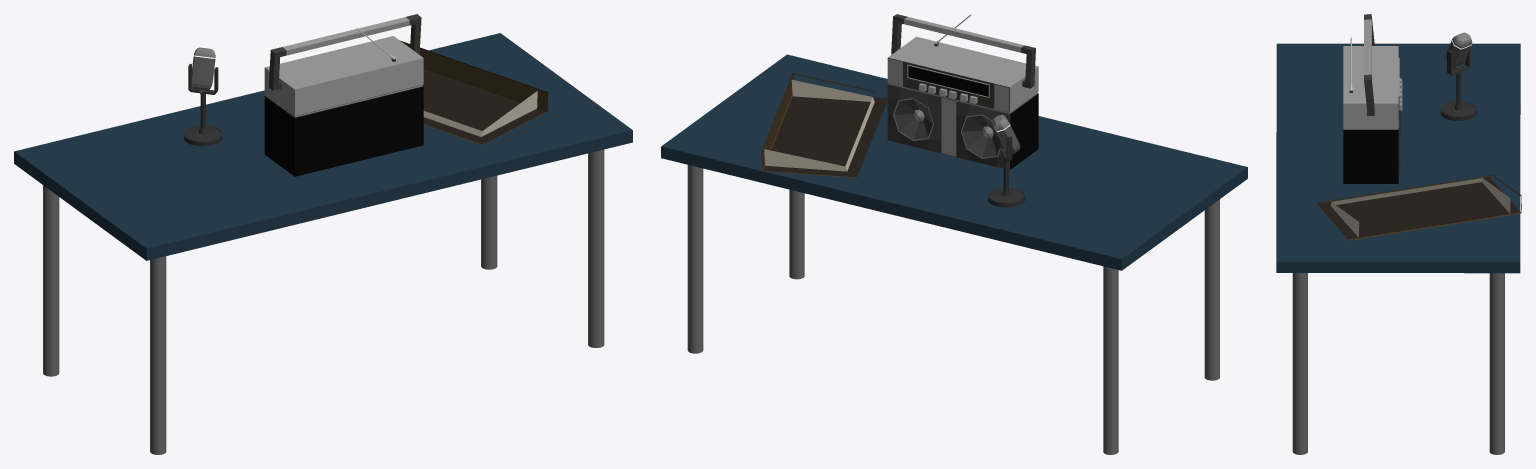
File: 3d_radio_v5.glb
3 renders of one model, left to right at view 1: azimuth 30°, elevation 25°; view 2: azimuth 150°, elevation 25°; view 3: azimuth 270°, elevation 25°, orthographic. The views are drawn at different scales.
Visible parts, largest first — view 1: Table, Radio, Plane, Microphone; view 2: Table, Radio, Plane, Microphone; view 3: Table, Radio, Plane, Microphone.
Boxes of the visible parts, x1,y1,x2,y2 form: Table: (14, 33, 632, 454); Radio: (264, 14, 423, 176); Plane: (400, 40, 548, 144); Microphone: (183, 47, 222, 146); Table: (661, 54, 1247, 454); Radio: (887, 14, 1038, 170); Plane: (761, 73, 887, 177); Microphone: (987, 114, 1024, 207); Table: (1276, 43, 1520, 454); Radio: (1343, 14, 1402, 183); Plane: (1316, 175, 1521, 240); Microphone: (1440, 32, 1476, 120).
Bounding box in the file's own units: 10.41 × 7.12 × 4.95.
